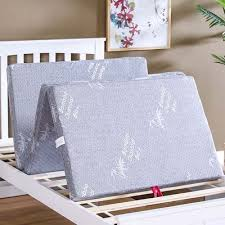bed-matress: (8, 55, 223, 202)
